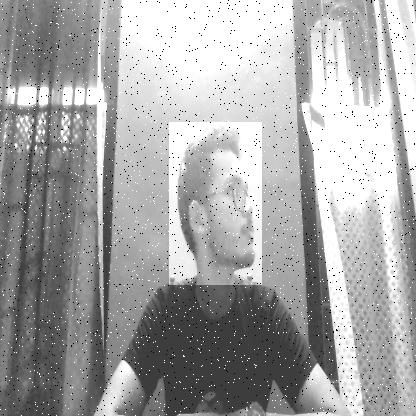Distracted: (169, 122, 262, 285)
